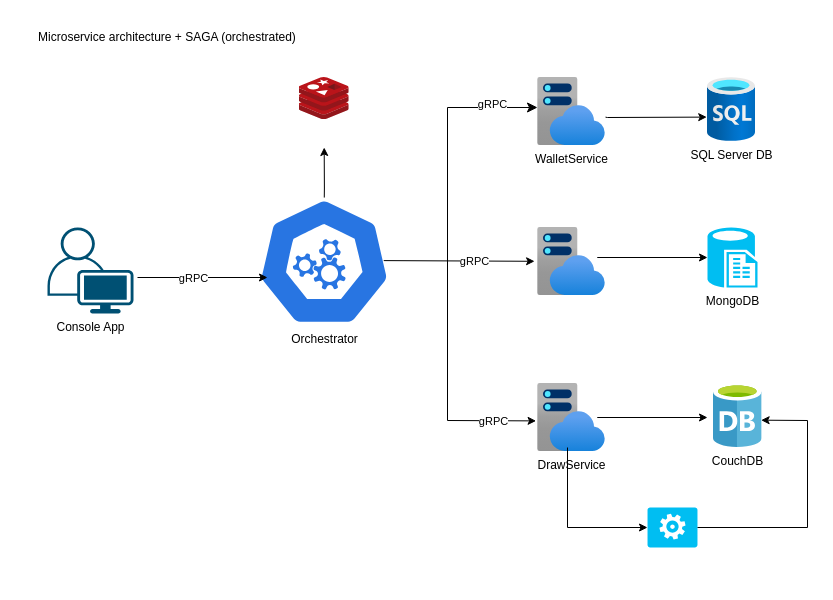
This 833x600 diagram has some shape labels left out. Here are the shapes that lost their labels. From the top down, the centre of each, then its label:
At point 324,98: "Redis Cache".
At point 571,261: "WagerService".
At point 672,527: "Background Workers (draw start/settlement)".
